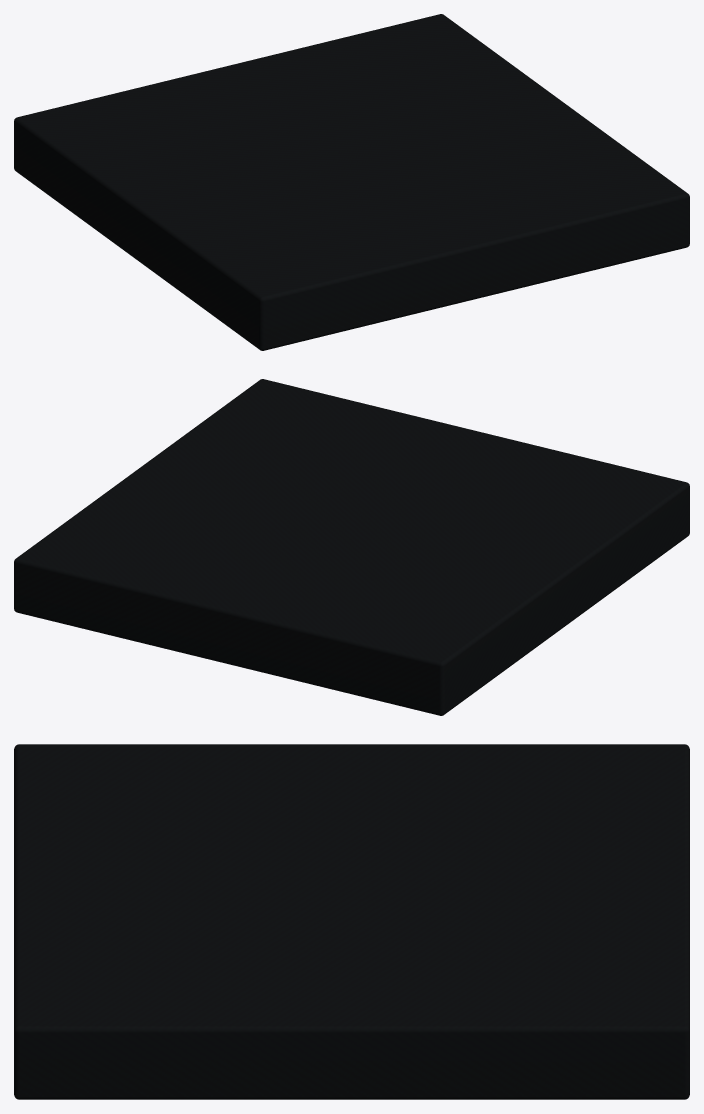
The model's file is CeilingAccessPanel.glb.
The picture shows the model from 3 angles, top to bottom: view 1: azimuth 30°, elevation 25°; view 2: azimuth 150°, elevation 25°; view 3: azimuth 270°, elevation 25°; orthographic projection. The views are drawn at different scales.
Visible parts, largest first — view 1: CeilingAccessPanel_Mesh; view 2: CeilingAccessPanel_Mesh; view 3: CeilingAccessPanel_Mesh.
Boxes of the visible parts, x1,y1,x2,y2 form: CeilingAccessPanel_Mesh: (14,14,689,350); CeilingAccessPanel_Mesh: (14,379,689,715); CeilingAccessPanel_Mesh: (14,744,689,1099).
Bounding box in the file's own units: 1 × 0.161 × 1.
Materials: 5 (5 with a texture image).
